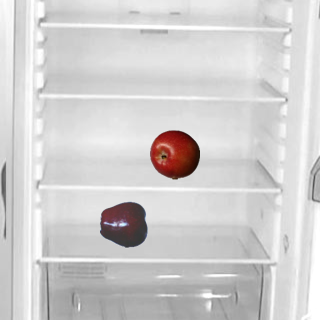Apple Braeburn: (149, 129, 199, 179)
Apple Red Delicious: (99, 199, 149, 249)
